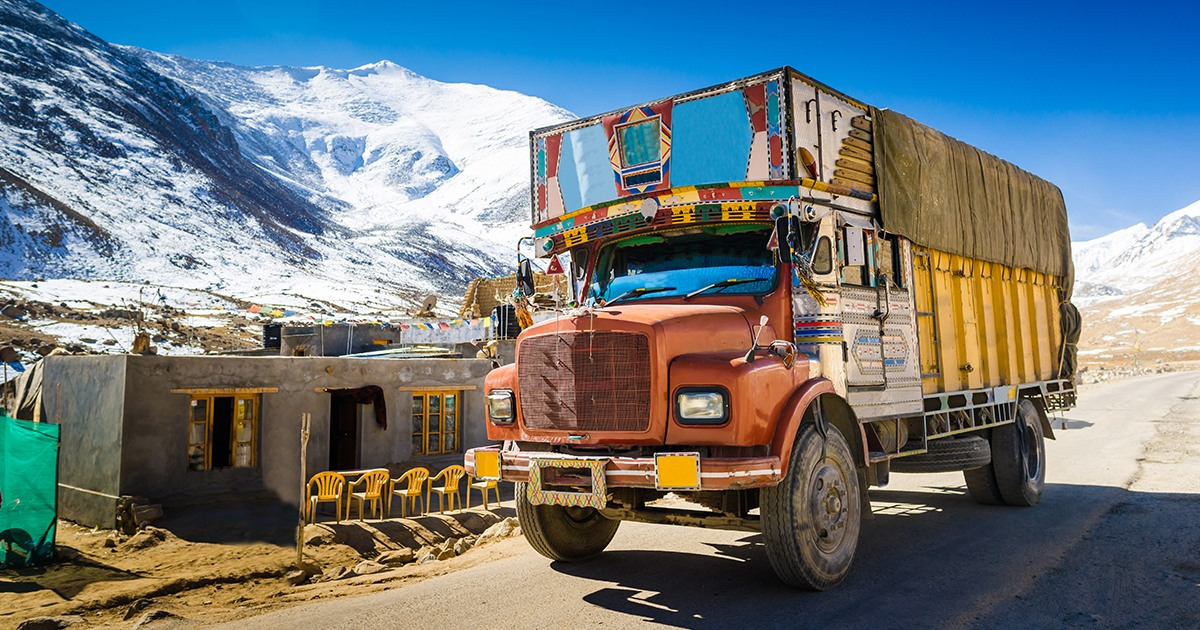truckq: (509, 80, 1081, 578)
